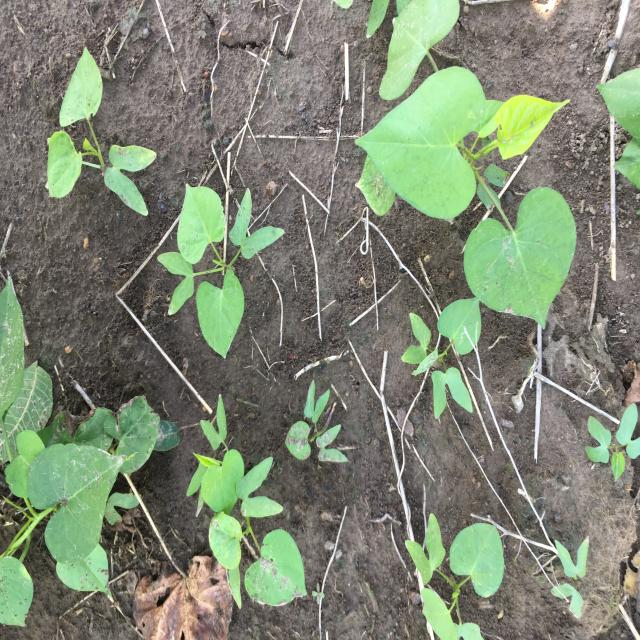MorningGlory: (355, 2, 576, 329), (0, 274, 160, 626), (157, 184, 285, 358), (45, 46, 157, 216), (208, 457, 307, 608), (405, 513, 505, 640), (402, 297, 481, 419), (182, 394, 244, 516), (285, 379, 348, 462), (585, 403, 640, 481), (551, 535, 589, 617)
